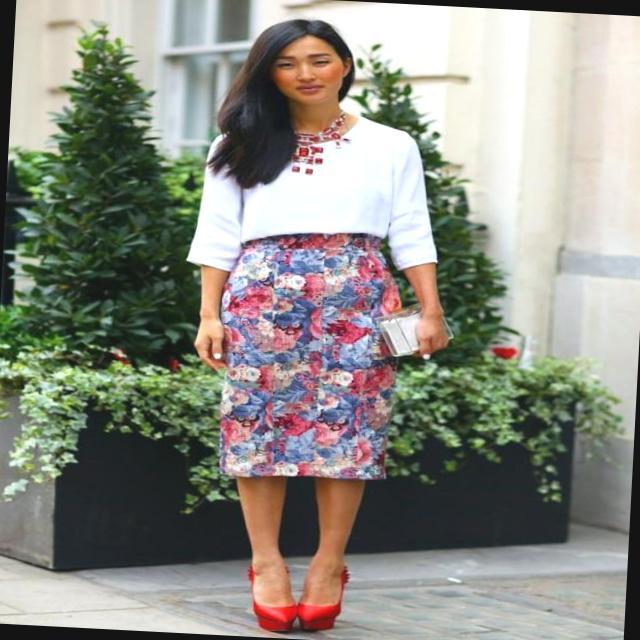Tshirt: (184, 105, 446, 284)
skirt: (210, 227, 408, 486)
